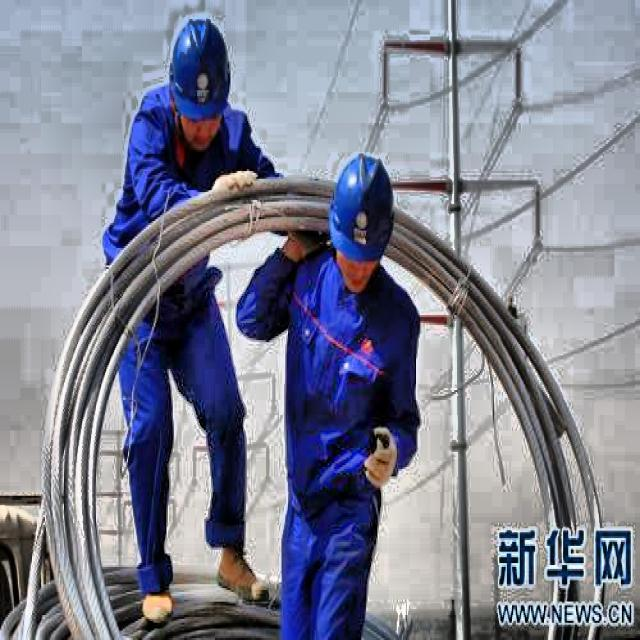helmet: (332, 142, 399, 286), (164, 10, 230, 130)
